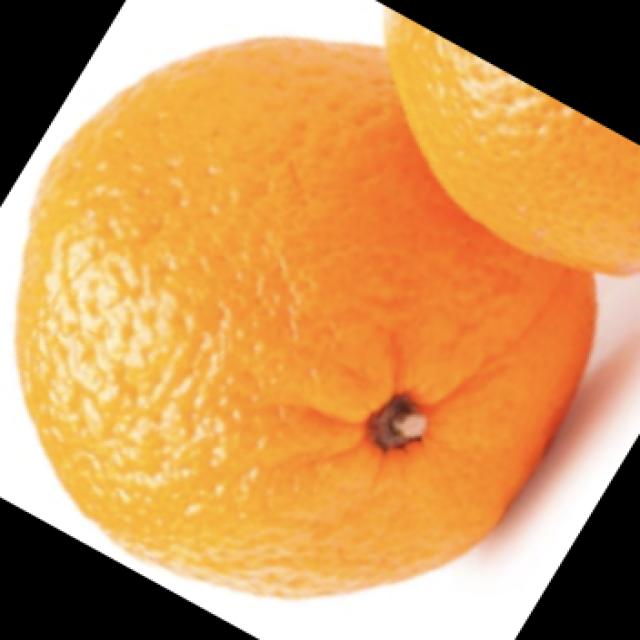fresh: (20, 15, 620, 619)
